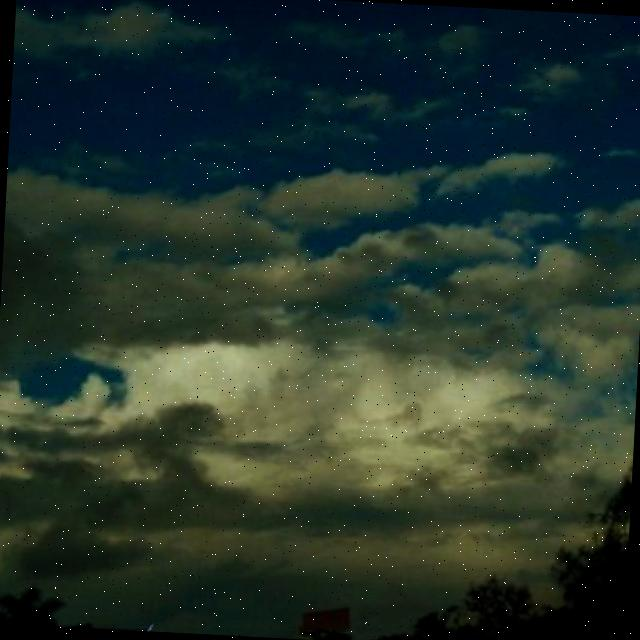Sc: (1, 51, 640, 462)
